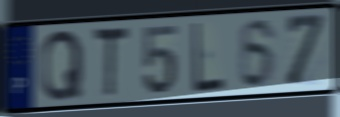5: (141, 22, 179, 96)
6: (237, 18, 278, 89)
7: (285, 14, 328, 90)
L: (191, 19, 226, 95)
Q: (38, 27, 84, 104)
T: (91, 24, 130, 101)
